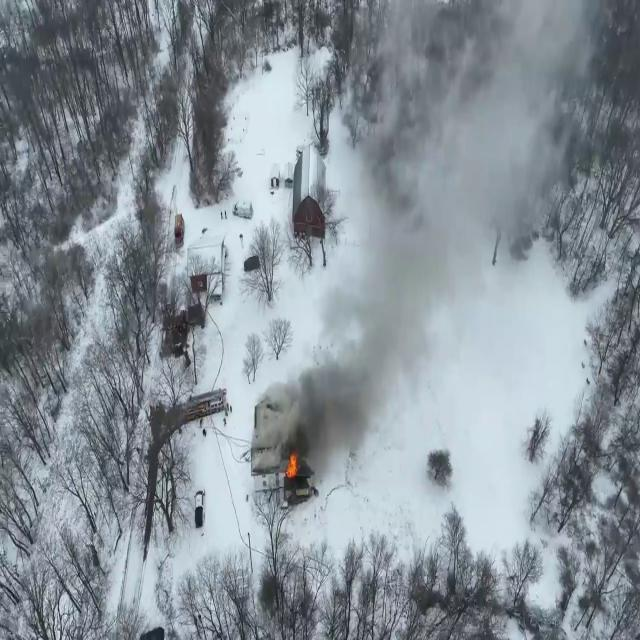Fire: (284, 446, 300, 488)
Smoke: (258, 0, 623, 513)
